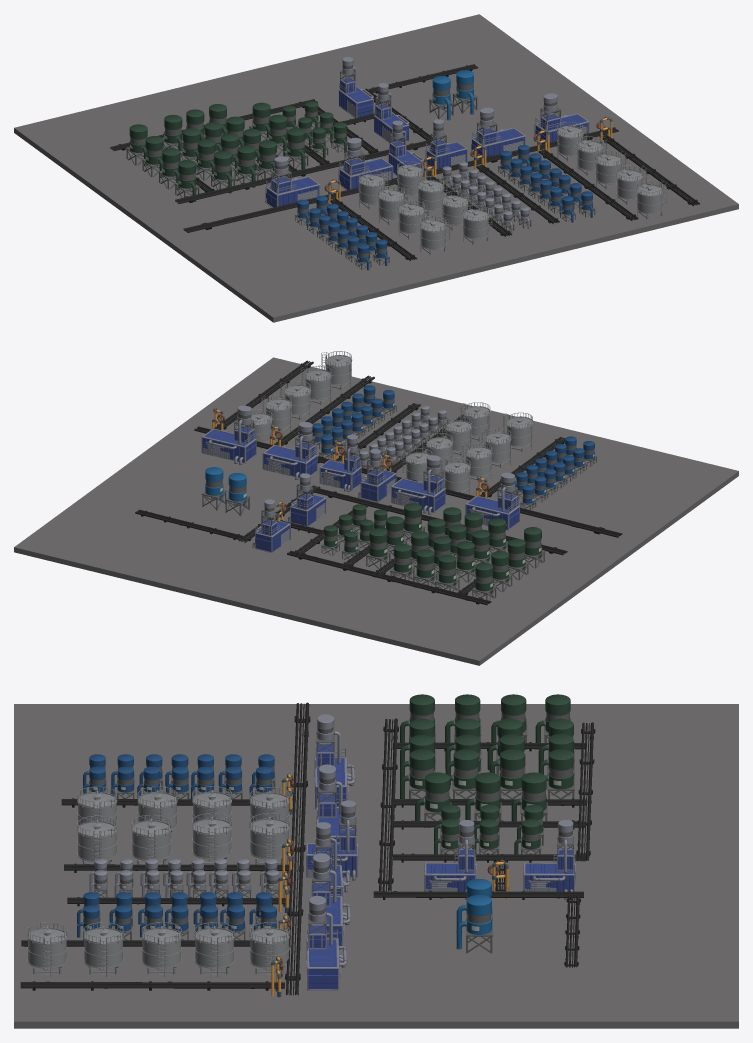
The model's file is lft-1.glb.
3 views of the same model, one above another, from view 1: azimuth 30°, elevation 25°; view 2: azimuth 150°, elevation 25°; view 3: azimuth 270°, elevation 25° (orthographic). The views are drawn at different scales.
Parts seen in each view (by area): view 1: Box, Pipes_11, Pipes_12, Structure_3, OLTA-Body_Default<As_Machined>_1_5, OLTA-Body_Default<As_Machined>_1_12, Structure_3_2_4, OLTA-Body_Default<As_Machined>_1_6, Structure_3_1_4, OLTA-Body_Default<As_Machined>_1_2, OLTA-Body_Default<As_Machined>_1_4, OLTA-Body_Default<As_Machined>_1_10 (+24 smaller); view 2: Box, Structure_3, Pipes_4, Structure_3_1_6, Pipes_11, Structure_3_1_5, Structure_3_1_3, Structure_3_2_6, Structure_3_2_5, Structure_3_2_3, Structure_3_1_4, OLTA-Body_Default<As_Machined>_1_5 (+26 smaller); view 3: Box, Pipes_11, Structure_3, Pipes_12, Pipes_10, OLTA-Body_Default<As_Machined>_1_11, OLTA-Body_Default<As_Machined>_1_12, OLTA-Body_Default<As_Machined>_1_9, OLTA-Body_Default<As_Machined>_1_10, OLTA-Body_Default<As_Machined>_1_7, OLTA-Body_Default<As_Machined>_1_2, OLTA-Body_Default<As_Machined>_1_8 (+42 smaller).
Boxes of the visible parts, x1,y1,x2,y2 form: Box: (14, 14, 738, 322); Pipes_11: (183, 127, 618, 232); Pipes_12: (175, 140, 430, 204); Structure_3: (374, 83, 409, 143); OLTA-Body_Default<As_Machined>_1_5: (419, 216, 450, 255); OLTA-Body_Default<As_Machined>_1_12: (636, 180, 666, 219); Structure_3_2_4: (266, 176, 319, 207); OLTA-Body_Default<As_Machined>_1_6: (462, 205, 492, 244); Structure_3_1_4: (265, 156, 320, 207); OLTA-Body_Default<As_Machined>_1_2: (417, 176, 448, 215); OLTA-Body_Default<As_Machined>_1_4: (397, 200, 428, 239); OLTA-Body_Default<As_Machined>_1_10: (595, 150, 626, 189); Box: (14, 357, 738, 665); Structure_3: (288, 473, 326, 526); Pipes_4: (287, 551, 491, 605); Structure_3_1_6: (201, 405, 256, 463); Pipes_11: (194, 426, 622, 537); Structure_3_1_5: (262, 421, 317, 478); Structure_3_1_3: (391, 455, 445, 513); Structure_3_2_6: (202, 426, 255, 462); Structure_3_2_5: (263, 442, 316, 477); Structure_3_2_3: (392, 476, 445, 511); Structure_3_1_4: (465, 472, 519, 530); OLTA-Body_Default<As_Machined>_1_5: (502, 412, 533, 451); Box: (14, 704, 738, 1028); Pipes_11: (285, 702, 310, 995); Structure_3: (424, 820, 476, 899); Pipes_12: (378, 718, 398, 891); Pipes_10: (20, 981, 284, 990); OLTA-Body_Default<As_Machined>_1_11: (83, 922, 123, 976); OLTA-Body_Default<As_Machined>_1_12: (27, 922, 67, 976); OLTA-Body_Default<As_Machined>_1_9: (194, 922, 234, 976); OLTA-Body_Default<As_Machined>_1_10: (141, 922, 181, 976); OLTA-Body_Default<As_Machined>_1_7: (131, 814, 171, 864); OLTA-Body_Default<As_Machined>_1_2: (192, 813, 231, 864); OLTA-Body_Default<As_Machined>_1_8: (249, 922, 289, 976).
Bounding box in the file's own units: 96.47 × 10.54 × 93.12.
